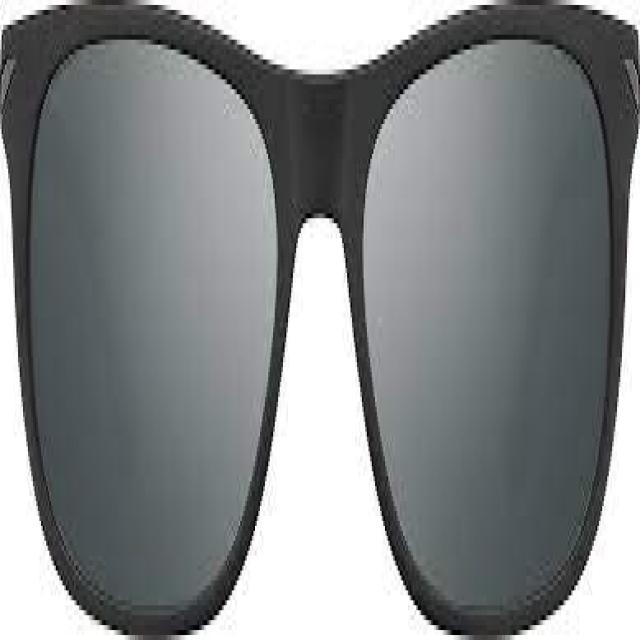sunglasses: (2, 12, 638, 628)
